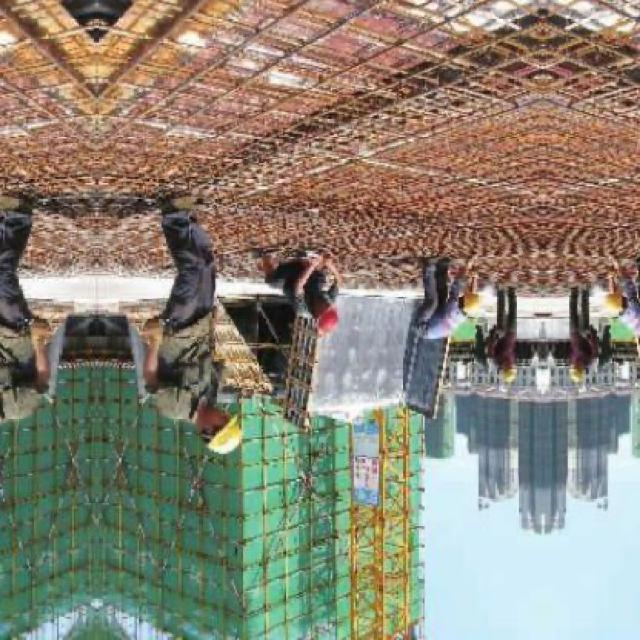con casco: (184, 384, 262, 459), (296, 292, 363, 347), (446, 277, 509, 330), (482, 340, 530, 386), (552, 338, 590, 382)
